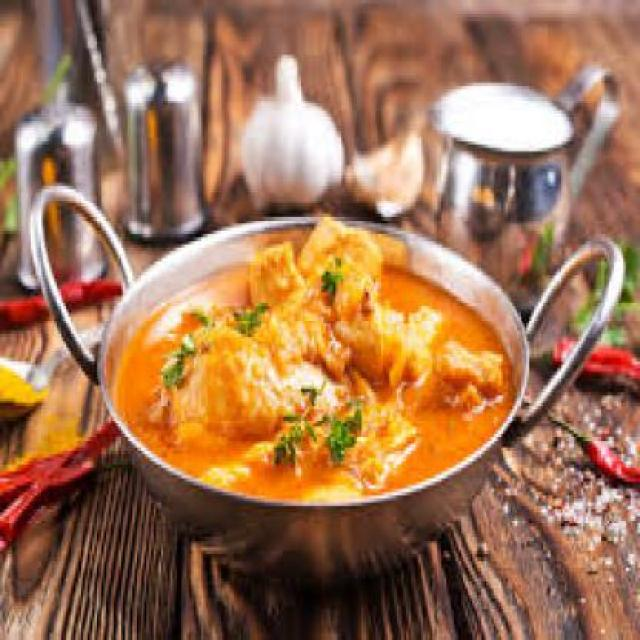CHICKEN CURRY: (114, 216, 521, 500)
